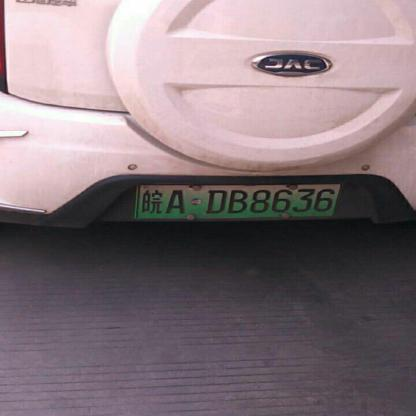lp: (135, 182, 342, 217)
